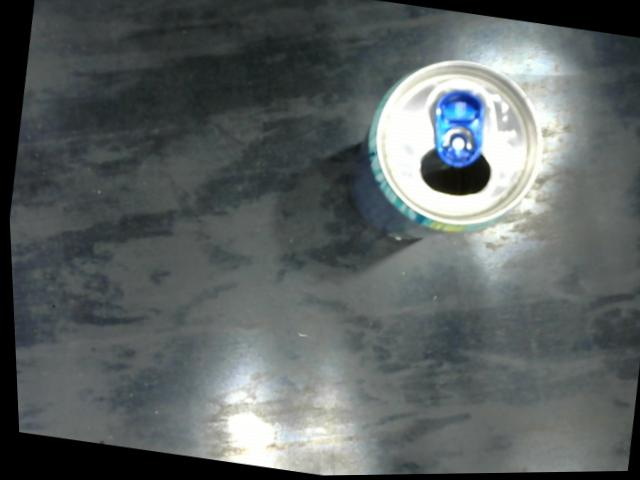can: (333, 44, 559, 265)
